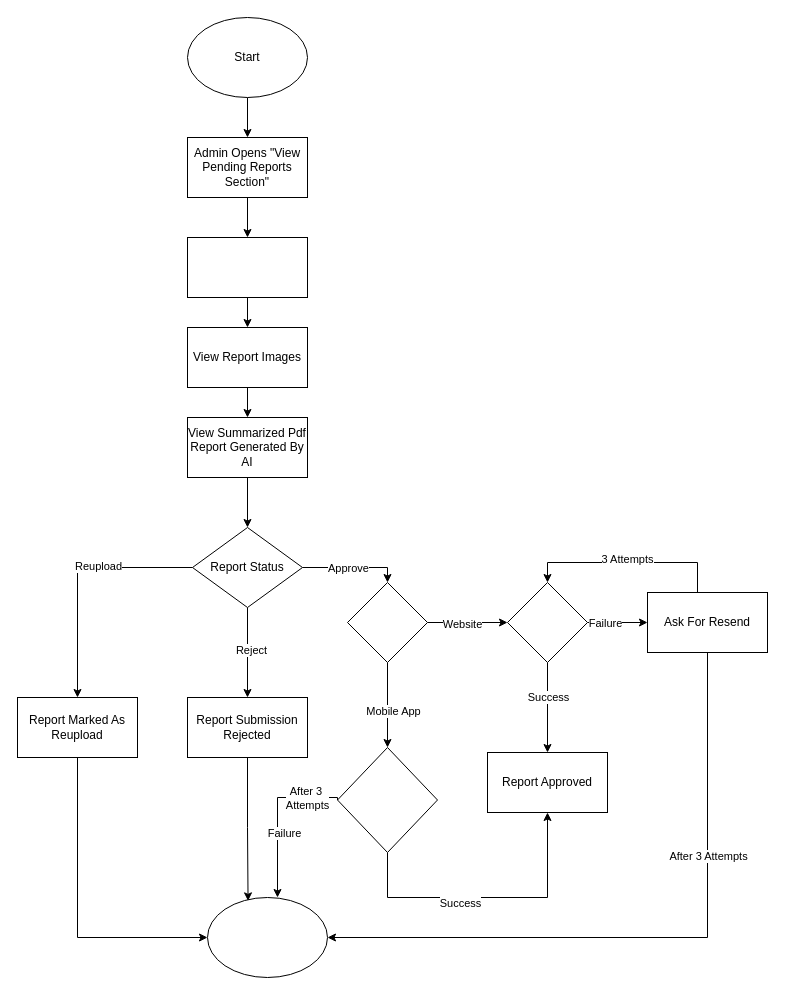
Some shapes in this 785 by 995 pixel diagram are drawn without their labels. Each missing label, with the centre of its shape:
"Admin Device" goes at (387,622).
"Bio-Metric Authentication" goes at (387,799).
"End" goes at (267,937).
"OTP Verification" goes at (547,622).
"View Report Details" goes at (247,267).
